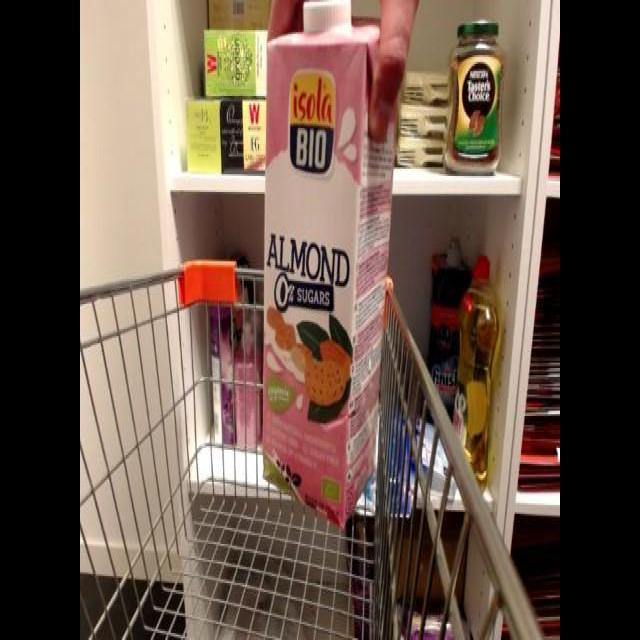Almond Milk: (255, 1, 404, 538)
